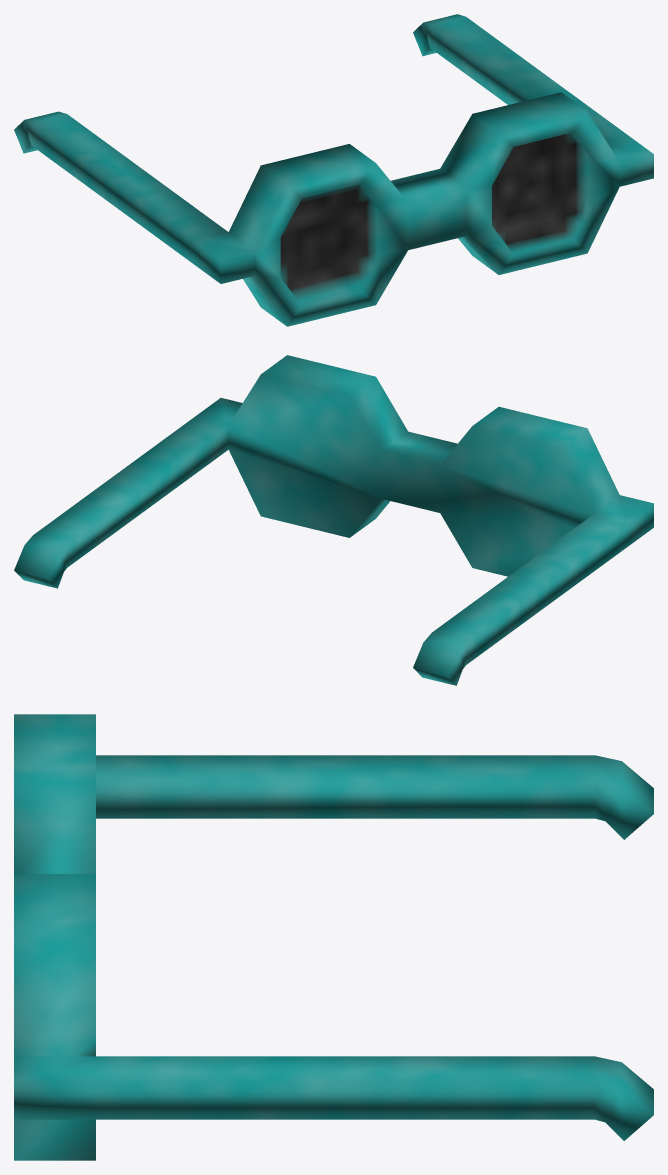
Rendered from sunglasses.fbx.
The picture shows the model from 3 angles, top to bottom: view 1: azimuth 30°, elevation 25°; view 2: azimuth 150°, elevation 25°; view 3: azimuth 270°, elevation 25°; orthographic projection. The views are drawn at different scales.
Visible parts, largest first — view 1: sunglasses; view 2: sunglasses; view 3: sunglasses.
Part boxes in pixels (bbox=[...]): sunglasses: bbox=[14, 14, 653, 326]; sunglasses: bbox=[14, 355, 653, 685]; sunglasses: bbox=[14, 714, 653, 1160].
Size of the model in its own units: 1.19 by 0.3725 by 0.9837.
